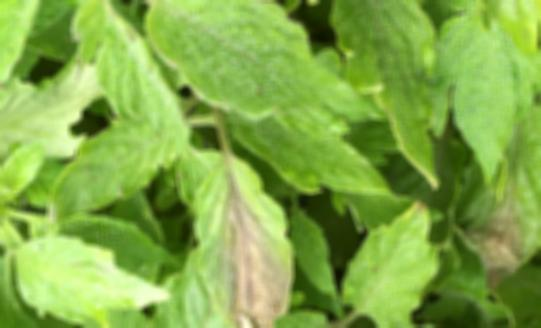Tomato mold leaf: (142, 0, 382, 119), (167, 147, 313, 328), (328, 0, 462, 194), (50, 0, 214, 146), (45, 116, 207, 225), (459, 92, 541, 290), (441, 0, 521, 188), (11, 239, 190, 313), (332, 209, 436, 328)
